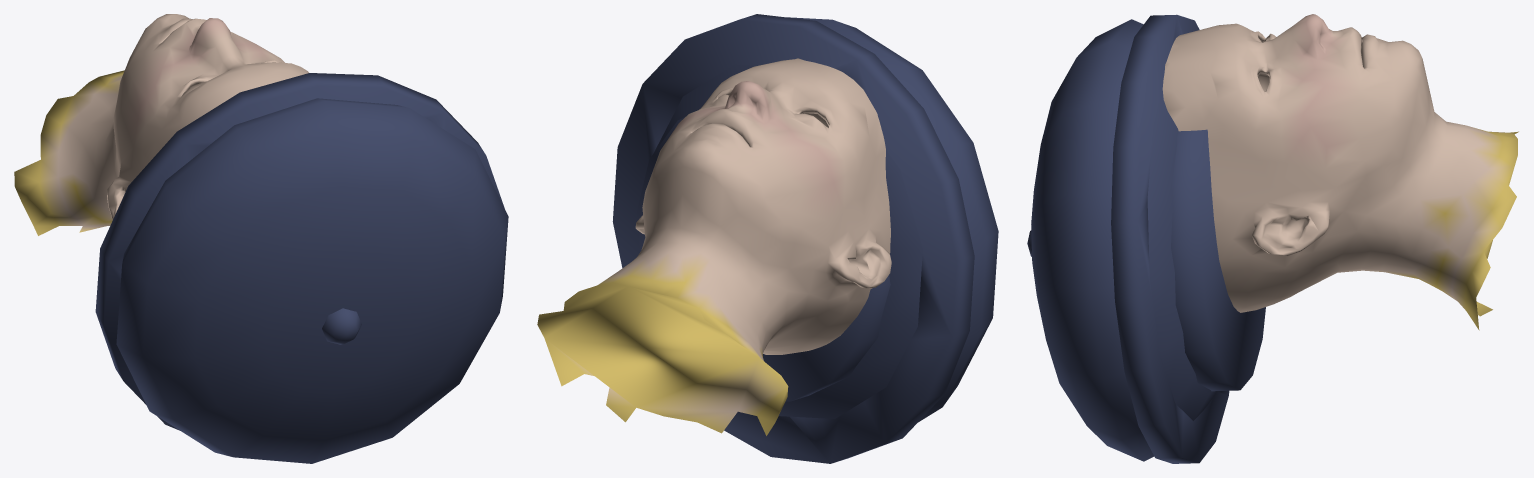
The model's file is teibi_head_authored.glb.
The picture shows the model from 3 angles, left to right: view 1: azimuth 30°, elevation 25°; view 2: azimuth 150°, elevation 25°; view 3: azimuth 270°, elevation 25°; orthographic projection. The views are drawn at different scales.
Visible parts, largest first — view 1: piece_head; view 2: piece_head; view 3: piece_head.
Boxes of the visible parts, x1=… form: piece_head: x1=14, y1=14, x2=508, y2=463; piece_head: x1=537, y1=14, x2=998, y2=463; piece_head: x1=1027, y1=14, x2=1518, y2=463.
Bounding box in the file's own units: 0.3228 × 0.3357 × 0.3603.
